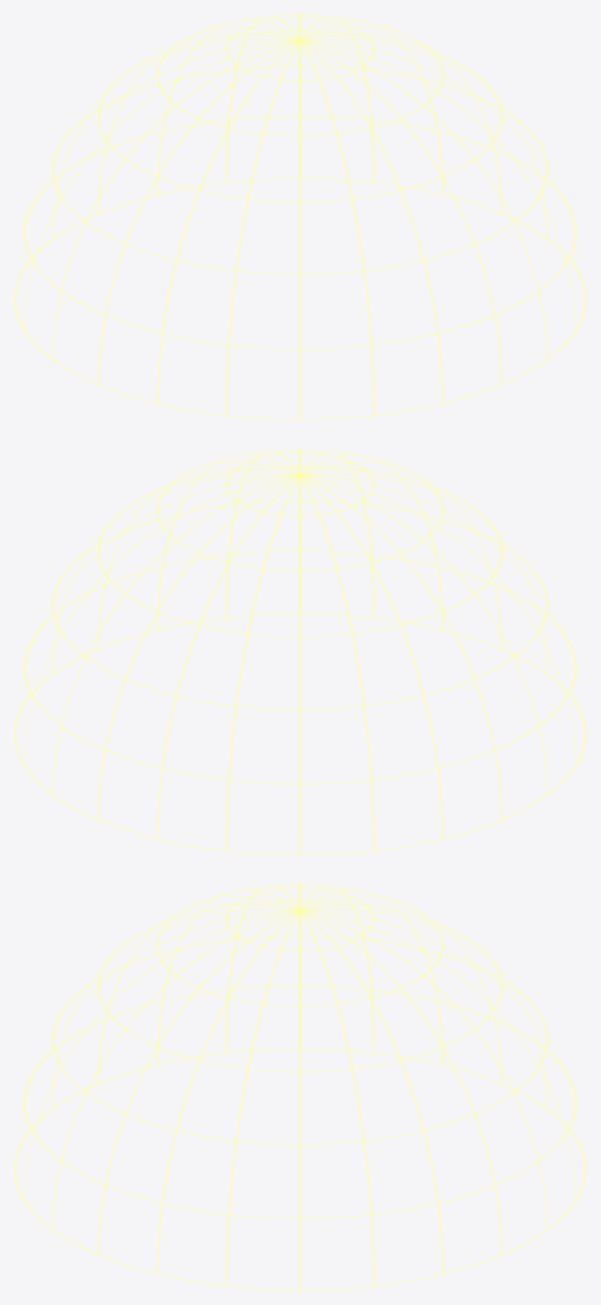
The model's file is scene_sky_grid.glb.
3 renders of one model, top to bottom at view 1: azimuth 30°, elevation 25°; view 2: azimuth 150°, elevation 25°; view 3: azimuth 270°, elevation 25°, orthographic.
Bounding box in the file's own units: 2.01 × 1 × 2.01.
